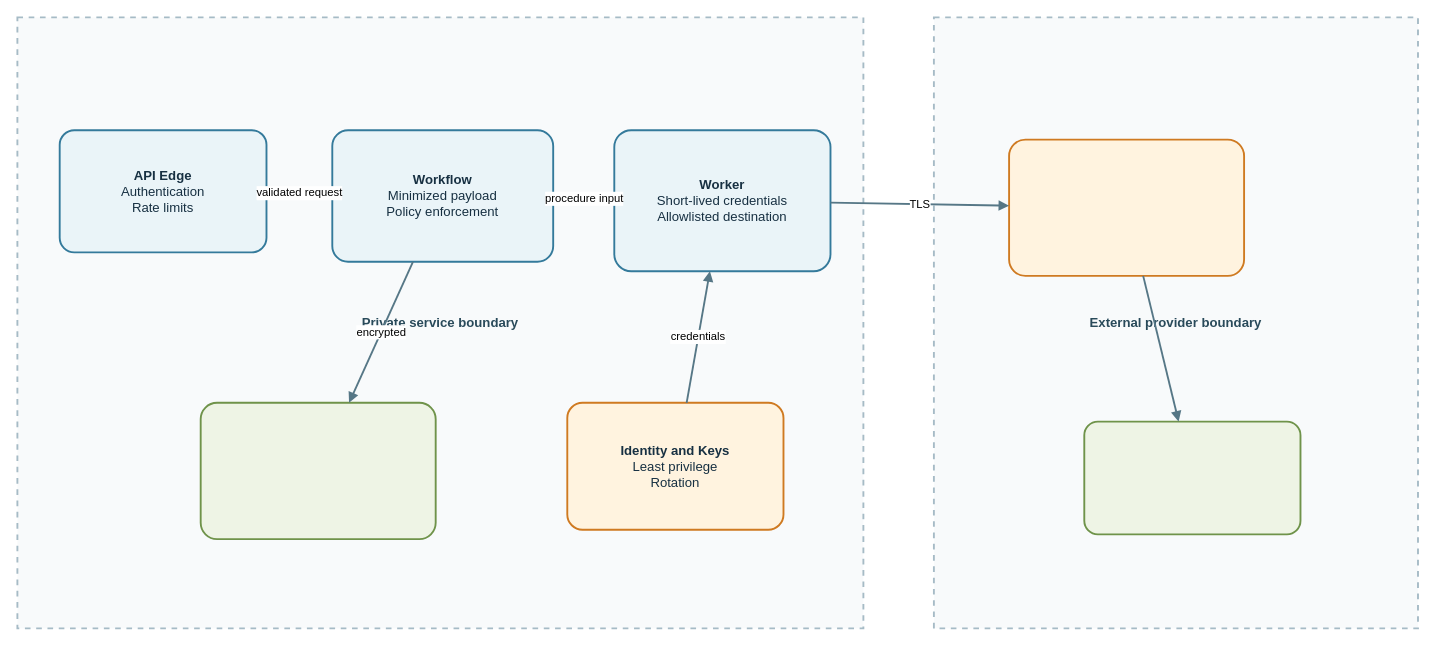
The diagram is 1434 pixels wide and 645 high, and some of its shapes have lost their labels. Here are the shapes that lost their labels. From the top down, the centre of each, then its label:
At point (1126, 207): "Provider API External data processor Independent availability".
At point (317, 470): "Encrypted Stores Operation state Audit and evidence".
At point (1192, 477): "Provider Record Authoritative outcome".
